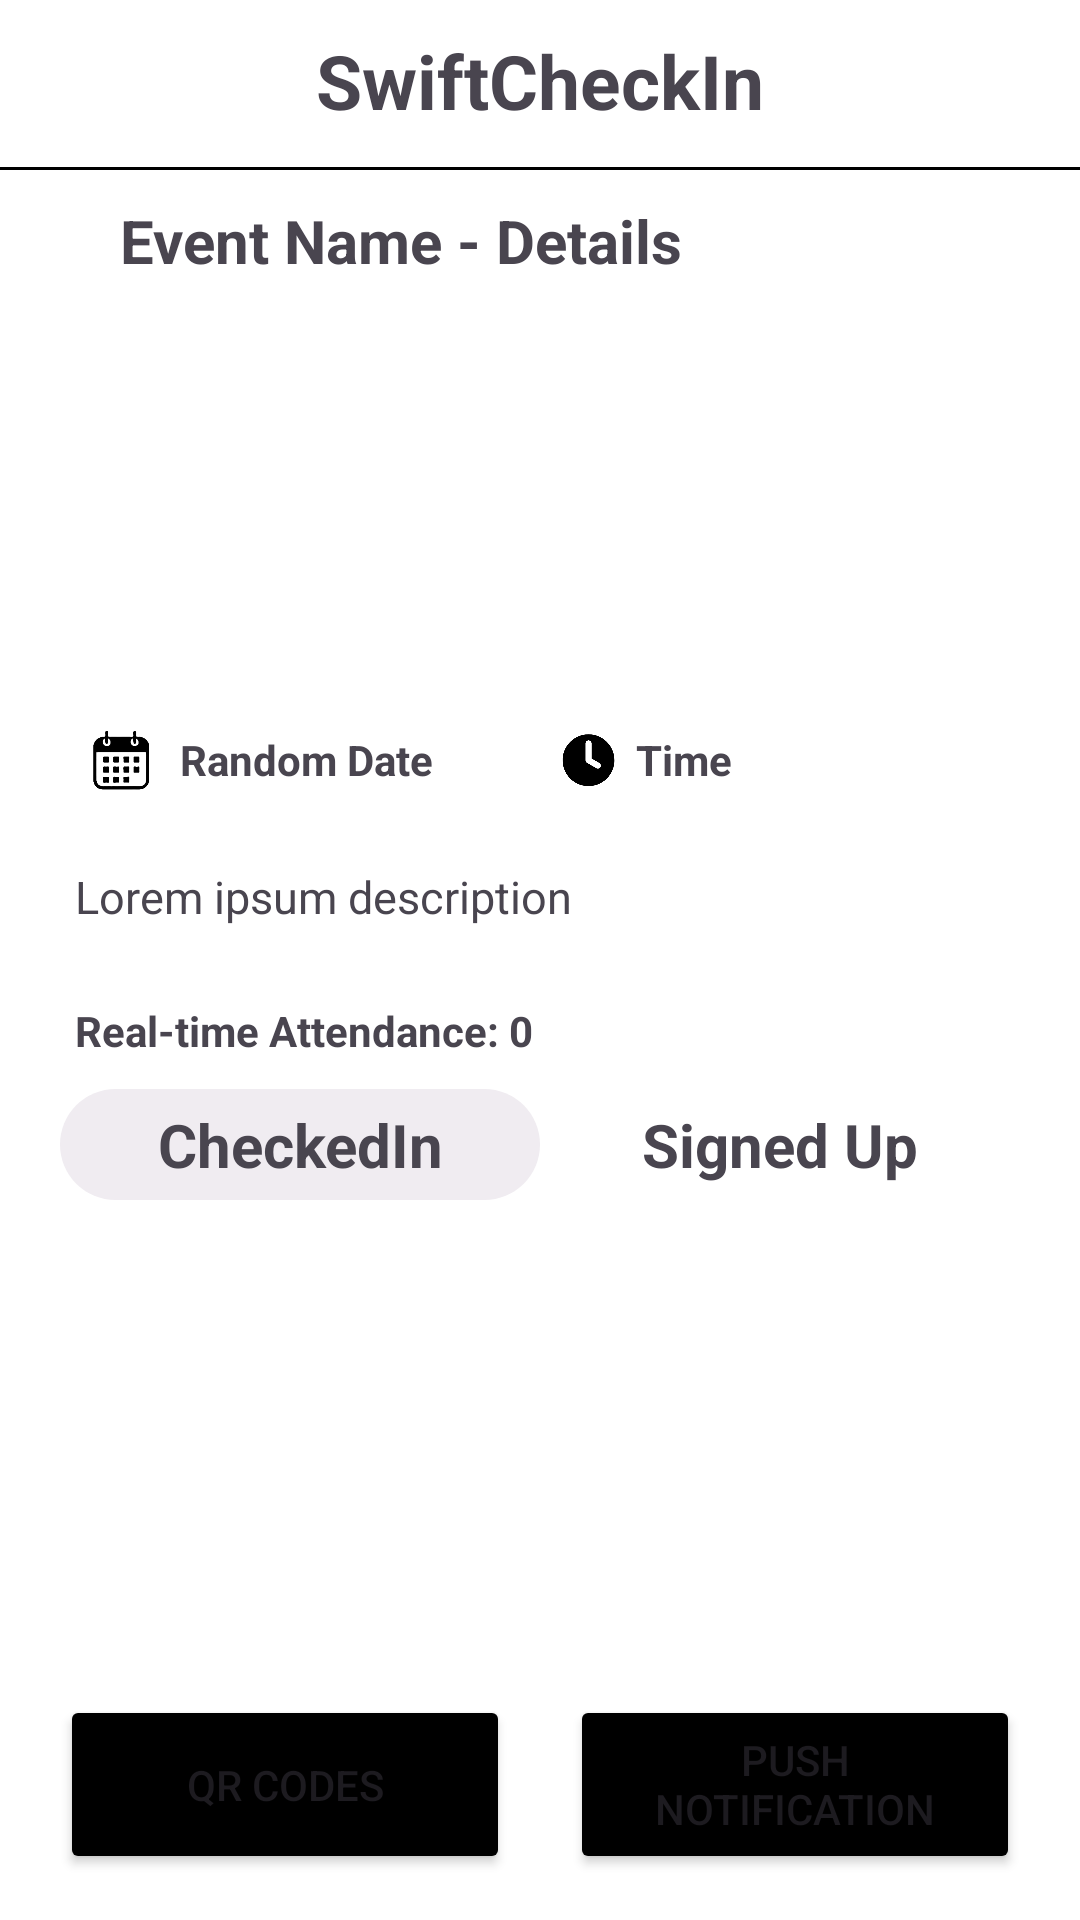

Named icons in this screenshot (1080w x 1920h) and their bounding boxes, (x1, y1, x2, y2):
calendar: (93, 731, 149, 790)
clock: (563, 734, 615, 786)
